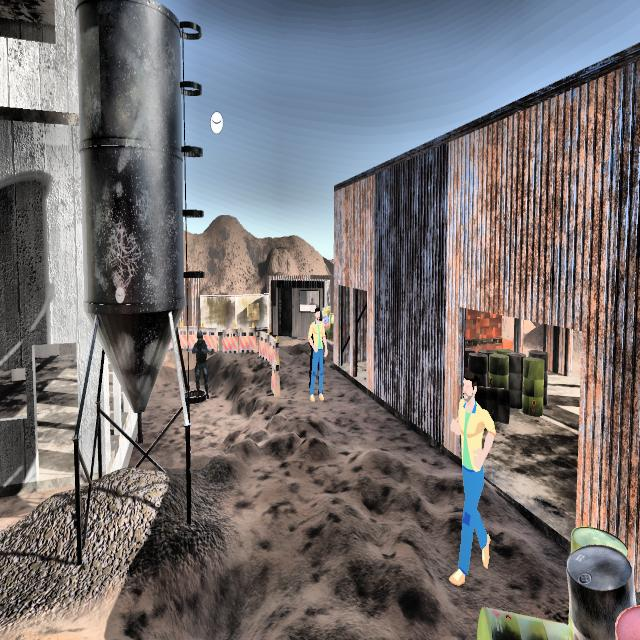bad: (190, 322, 212, 413)
good: (434, 363, 502, 598), (302, 289, 332, 414)
